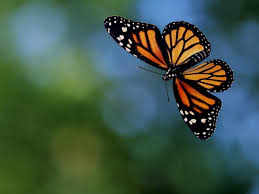insect: (96, 16, 232, 140)
